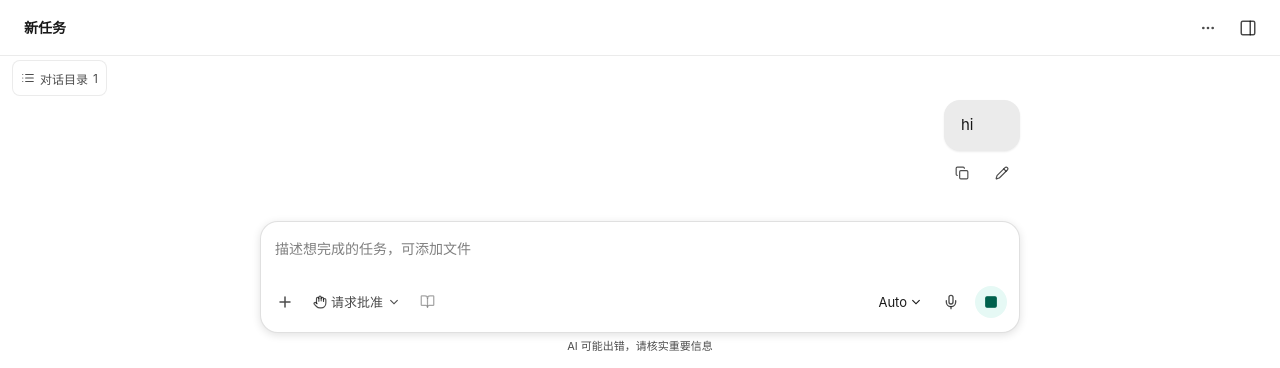
Test case: ChatView pause/yield/resume 闭环 › 有草稿时通过顶部任务菜单停止，保留输入并阻止重复操作
This screenshot has width=1280, height=368.
Type "保留补充要求" into the text box.
click(640, 259); type("保留补充要求")  # box [273,234,1007,284]
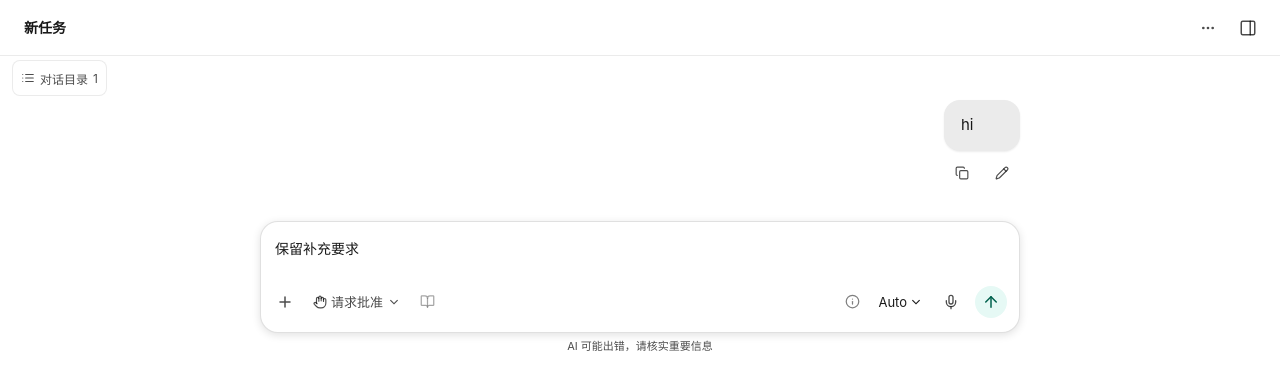
Click the button named "任务操作".
click(1208, 28)  # box [1192,12,1224,44]
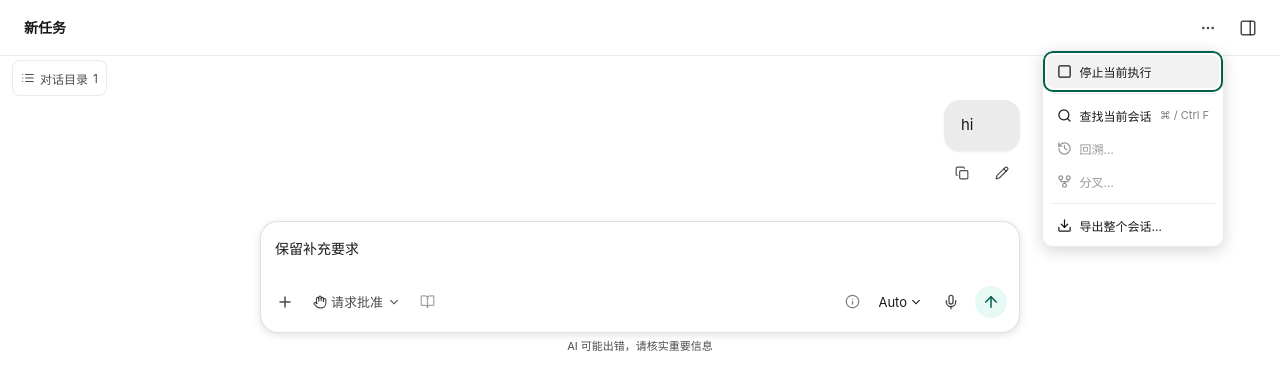
Click the menu item "停止当前执行".
click(1133, 71)  # box [1047,54,1219,88]
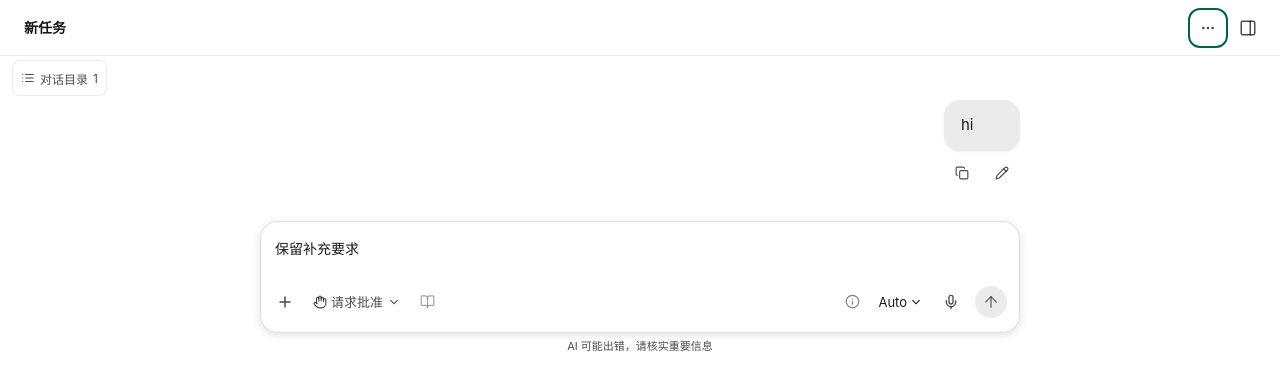
Now the button named "加入待发送队列" is disabled, box [975,286,1007,318]
Click the button named "任务操作".
click(1208, 28)  # box [1192,12,1224,44]
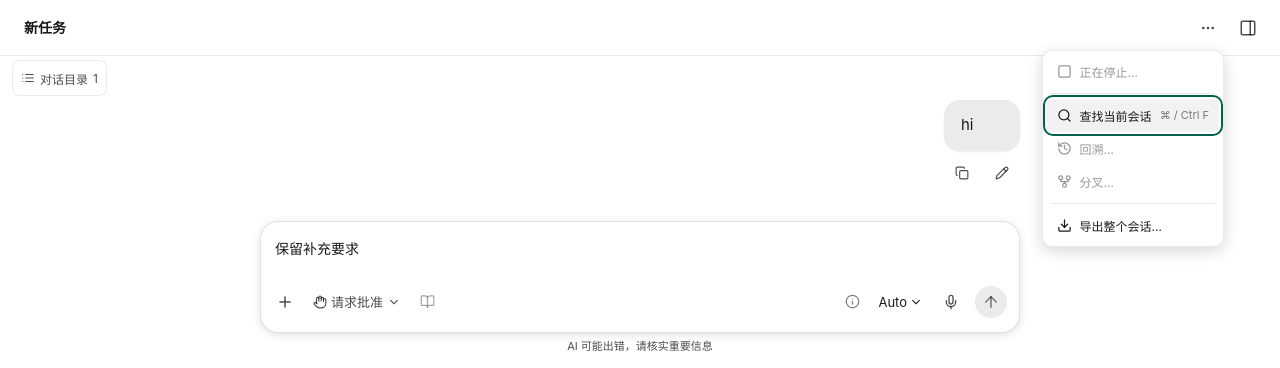
Now the menu item "正在停止…" is disabled
Click the menu item "正在停止…".
click(1133, 71)  # box [1047,54,1219,88]
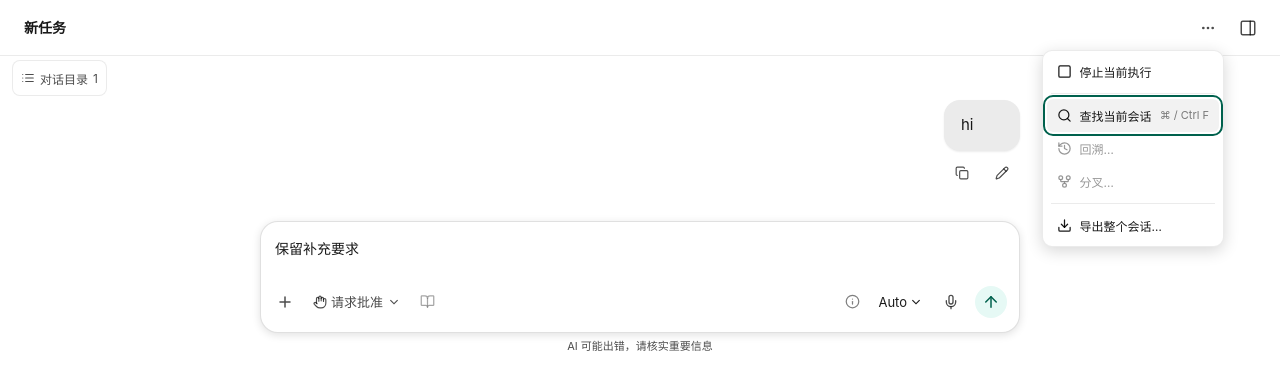
Now the button named "加入待发送队列" is enabled, box [975,286,1007,318]
